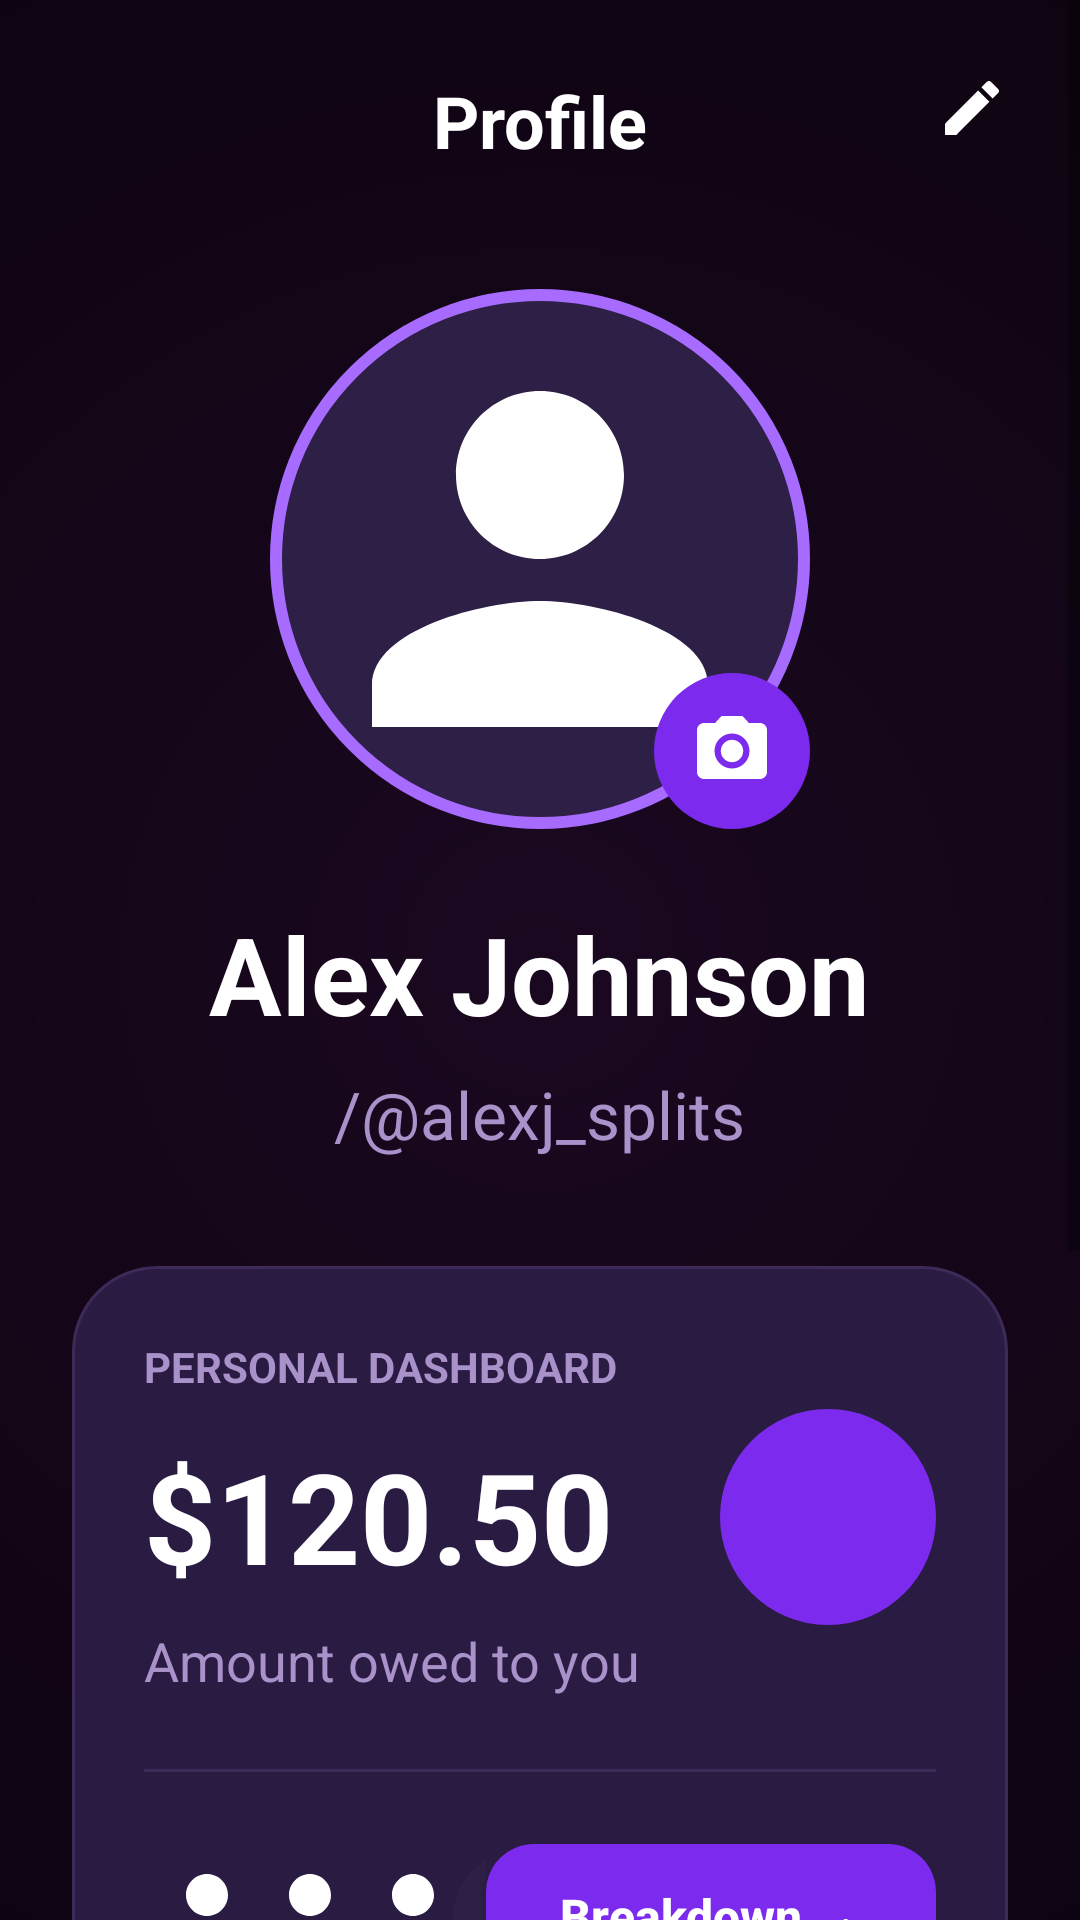

Where to tap for icons on this 1080*1920 app screen, as point (x, y):
camera: point (732, 751)
edit: point (972, 108)
